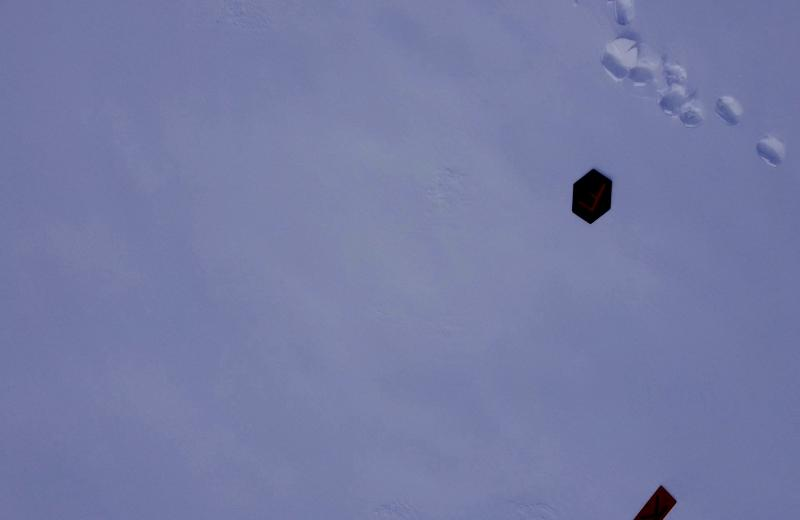Hexagon: (571, 168, 615, 225)
Rectangle: (632, 481, 679, 520)
